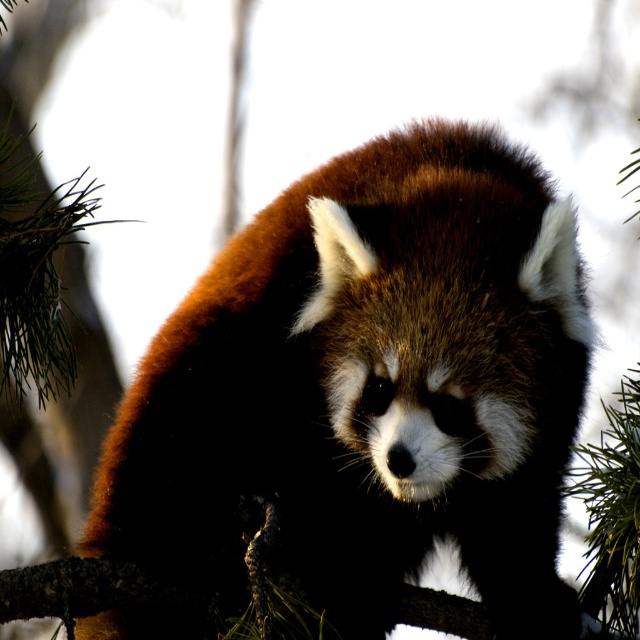Red panda: (73, 113, 613, 640)
